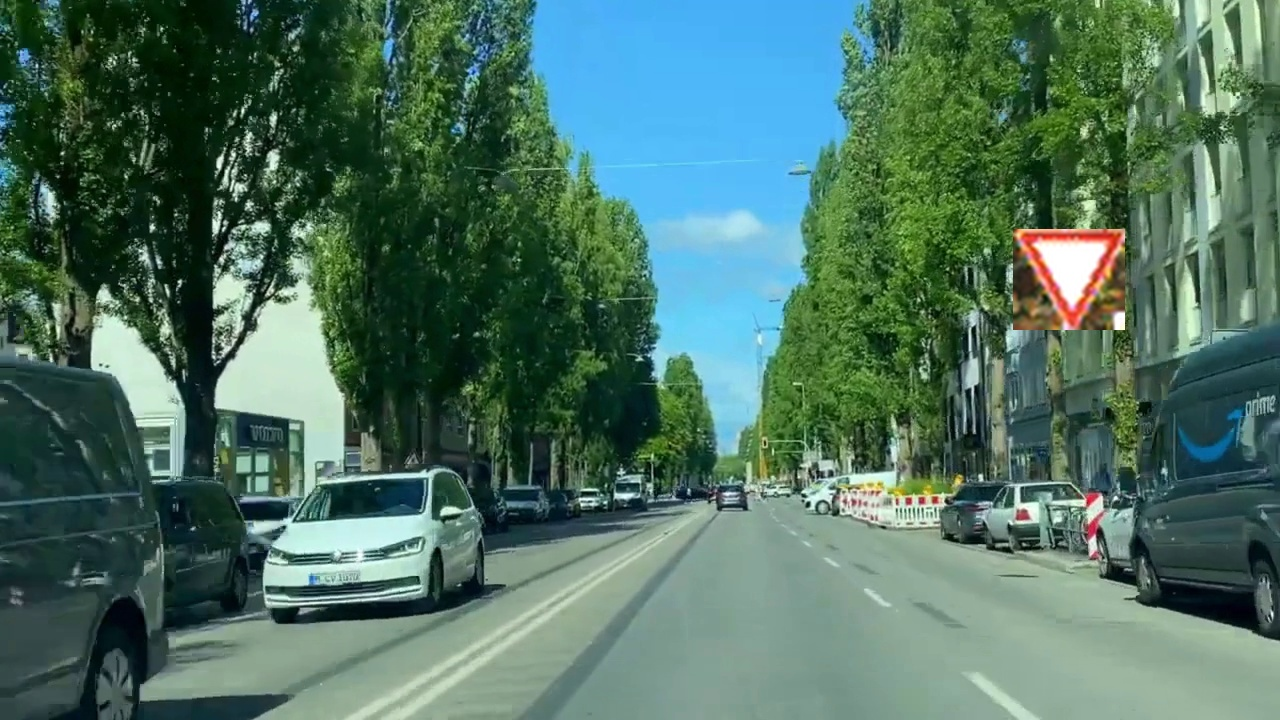Yield: (1013, 229, 1125, 330)
